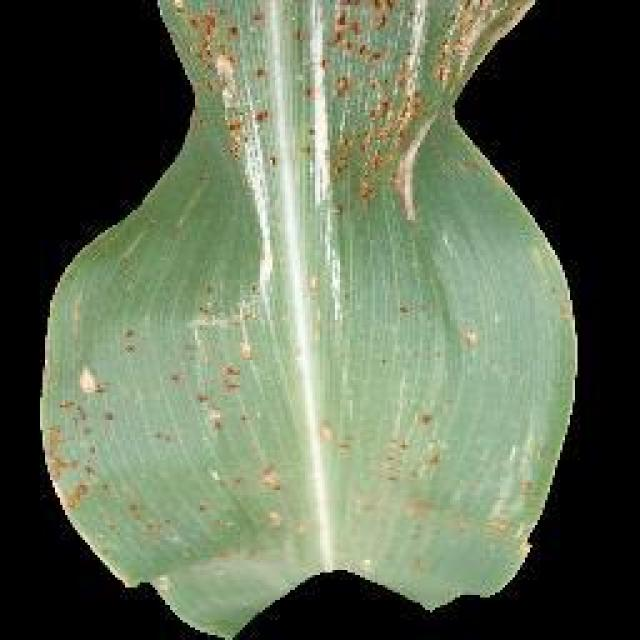Corn Common Rust: (178, 0, 519, 568)
